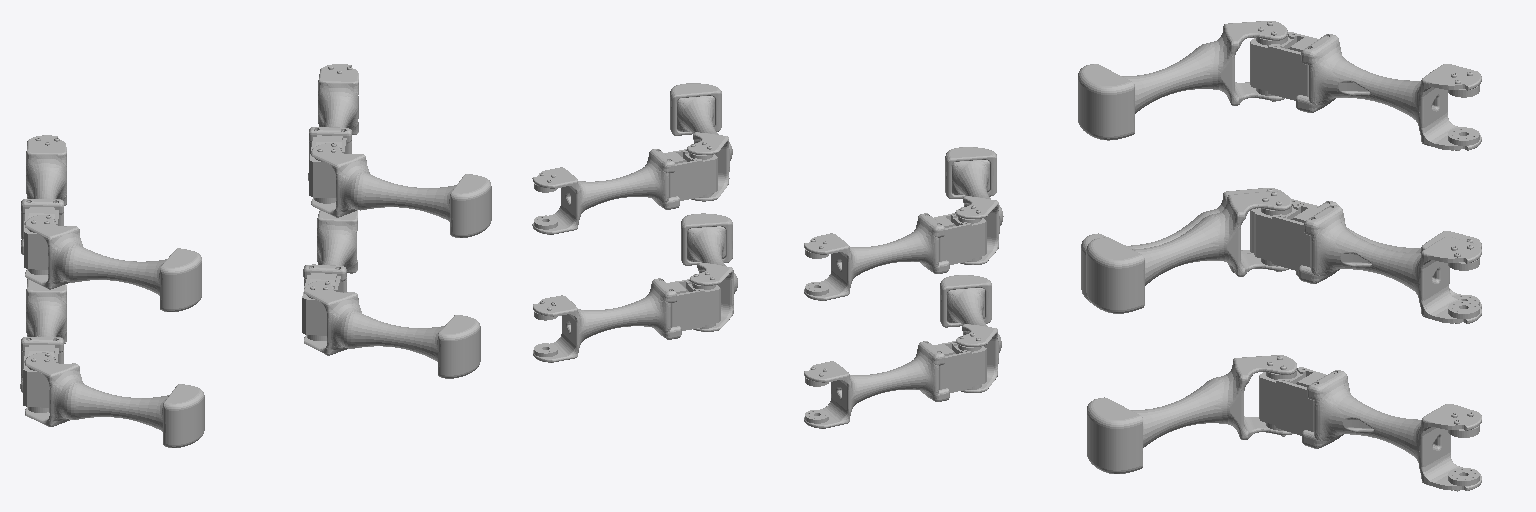
URDF robot description (Bobo_shoes):
<?xml version="1.0" encoding="utf-8"?>
<!-- This URDF was automatically created by SolidWorks to URDF Exporter! Originally created by [author] ([email redacted]) 
     Commit Version: 1.6.0-4-g7f85cfe  Build Version: 1.6.7995.38578
     For more information, please see http://wiki.ros.org/sw_urdf_exporter -->
<robot
  name="Bobo_shoes">
  <link
    name="base_link">
    <inertial>
      <origin
        xyz="0.00010649 0.038205 -0.00019677"
        rpy="0 0 0" />
      <mass
        value="1.4208" />
      <inertia
        ixx="0.0017927"
        ixy="2.4302E-06"
        ixz="-2.1942E-07"
        iyy="0.0036662"
        iyz="3.6126E-07"
        izz="0.0020571" />
    </inertial>
    <visual>
      <origin
        xyz="0 0 0"
        rpy="0 0 0" />
      <geometry>
        <mesh
          filename="package://Bobo_shoes/meshes/base_link.STL" />
      </geometry>
      <material
        name="">
        <color
          rgba="0.75294 0.75294 0.75294 1" />
      </material>
    </visual>
    <collision>
      <origin
        xyz="0 0 0"
        rpy="0 0 0" />
      <geometry>
        <mesh
          filename="package://Bobo_shoes/meshes/base_link.STL" />
      </geometry>
    </collision>
  </link>
  <link
    name="link_1">
    <inertial>
      <origin
        xyz="0.023574 0.02515 0.080557"
        rpy="0 0 0" />
      <mass
        value="0.083092" />
      <inertia
        ixx="6.4238E-05"
        ixy="-2.1796E-07"
        ixz="-6.6422E-07"
        iyy="6.3326E-05"
        iyz="-1.6043E-05"
        izz="1.75E-05" />
    </inertial>
    <visual>
      <origin
        xyz="0 0 0"
        rpy="0 0 0" />
      <geometry>
        <mesh
          filename="package://Bobo_shoes/meshes/link_1.STL" />
      </geometry>
      <material
        name="">
        <color
          rgba="0.75294 0.75294 0.75294 1" />
      </material>
    </visual>
    <collision>
      <origin
        xyz="0 0 0"
        rpy="0 0 0" />
      <geometry>
        <mesh
          filename="package://Bobo_shoes/meshes/link_1.STL" />
      </geometry>
    </collision>
  </link>
  <joint
    name="joint_1"
    type="revolute">
    <origin
      xyz="0.1049 0 -0.032125"
      rpy="2.5078 1.5708 0" />
    <parent
      link="base_link" />
    <child
      link="link_1" />
    <axis
      xyz="1 0 0" />
    <limit
      lower="-0.78"
      upper="0.78"
      effort="1.667"
      velocity="5.5" />
  </joint>
  <link
    name="link_2">
    <inertial>
      <origin
        xyz="0.0241545629458776 -0.064141958662364 0.0461530494688376"
        rpy="0 0 0" />
      <mass
        value="0.0794251949247651" />
      <inertia
        ixx="0.000105991529822171"
        ixy="5.44628841125708E-08"
        ixz="-5.47187122987762E-08"
        iyy="6.07427935489942E-05"
        iyz="4.66916520913843E-05"
        izz="6.0437364979308E-05" />
    </inertial>
    <visual>
      <origin
        xyz="0 0 0"
        rpy="0 0 0" />
      <geometry>
        <mesh
          filename="package://Bobo_shoes/meshes/link_2.STL" />
      </geometry>
      <material
        name="">
        <color
          rgba="0.752941176470588 0.752941176470588 0.752941176470588 1" />
      </material>
    </visual>
    <collision>
      <origin
        xyz="0 0 0"
        rpy="0 0 0" />
      <geometry>
        <mesh
          filename="package://Bobo_shoes/meshes/link_2.STL" />
      </geometry>
      <contact_coefficients mu="0" kp="1.0" kd="1.0" />
    </collision>
  </link>
  <joint
    name="joint_2"
    type="revolute">
    <origin
      xyz="0 0.041216 0.1317"
      rpy="-2.3481 0 0" />
    <parent
      link="link_1" />
    <child
      link="link_2" />
    <axis
      xyz="-1 0 0" />
    <limit
      lower="-0.78"
      upper="0.78"
      effort="1.667"
      velocity="5.5" />
  </joint>
  <link
    name="link_3">
    <inertial>
      <origin
        xyz="-0.023276 0.031256 0.07839"
        rpy="0 0 0" />
      <mass
        value="0.083093" />
      <inertia
        ixx="6.4239E-05"
        ixy="-2.6829E-07"
        ixz="-6.456E-07"
        iyy="6.0603E-05"
        iyz="-1.9359E-05"
        izz="2.0224E-05" />
    </inertial>
    <visual>
      <origin
        xyz="0 0 0"
        rpy="0 0 0" />
      <geometry>
        <mesh
          filename="package://Bobo_shoes/meshes/link_3.STL" />
      </geometry>
      <material
        name="">
        <color
          rgba="0.75294 0.75294 0.75294 1" />
      </material>
    </visual>
    <collision>
      <origin
        xyz="0 0 0"
        rpy="0 0 0" />
      <geometry>
        <mesh
          filename="package://Bobo_shoes/meshes/link_3.STL" />
      </geometry>
    </collision>
  </link>
  <joint
    name="joint_3"
    type="revolute">
    <origin
      xyz="0.1049 0 0.033525"
      rpy="2.5462 1.5708 0" />
    <parent
      link="base_link" />
    <child
      link="link_3" />
    <axis
      xyz="1 0 0" />
    <limit
      lower="-0.78"
      upper="0.78"
      effort="1.667"
      velocity="5.5" />
  </joint>
  <link
    name="link_4">
    <inertial>
      <origin
        xyz="-0.0226954374846085 -0.0586522682265568 0.0529547909931943"
        rpy="0 0 0" />
      <mass
        value="0.0794253330989273" />
      <inertia
        ixx="0.000105991857636258"
        ixy="4.80859268104431E-08"
        ixz="-6.03993729558542E-08"
        iyy="7.09897909834876E-05"
        iyz="4.55191839954083E-05"
        izz="5.01907218094876E-05" />
    </inertial>
    <visual>
      <origin
        xyz="0 0 0"
        rpy="0 0 0" />
      <geometry>
        <mesh
          filename="package://Bobo_shoes/meshes/link_4.STL" />
      </geometry>
      <material
        name="">
        <color
          rgba="0.752941176470588 0.752941176470588 0.752941176470588 1" />
      </material>
    </visual>
    <collision>
      <origin
        xyz="0 0 0"
        rpy="0 0 0" />
      <geometry>
        <mesh
          filename="package://Bobo_shoes/meshes/link_4.STL" />
      </geometry>
      <contact_coefficients mu="0" kp="1.0" kd="1.0" />
    </collision>
  </link>
  <joint
    name="joint_4"
    type="revolute">
    <origin
      xyz="0 0.051198 0.12815"
      rpy="-2.3311 0 0" />
    <parent
      link="link_3" />
    <child
      link="link_4" />
    <axis
      xyz="-1 0 0" />
    <limit
      lower="-0.78"
      upper="0.78"
      effort="1.667"
      velocity="5.5" />
  </joint>
  <link
    name="link_5">
    <inertial>
      <origin
        xyz="0.023574 0.036666 0.07601"
        rpy="0 0 0" />
      <mass
        value="0.083093" />
      <inertia
        ixx="6.4239E-05"
        ixy="-3.1282E-07"
        ixz="-6.2524E-07"
        iyy="5.7702E-05"
        iyz="-2.1988E-05"
        izz="2.3125E-05" />
    </inertial>
    <visual>
      <origin
        xyz="0 0 0"
        rpy="0 0 0" />
      <geometry>
        <mesh
          filename="package://Bobo_shoes/meshes/link_5.STL" />
      </geometry>
      <material
        name="">
        <color
          rgba="0.75294 0.75294 0.75294 1" />
      </material>
    </visual>
    <collision>
      <origin
        xyz="0 0 0"
        rpy="0 0 0" />
      <geometry>
        <mesh
          filename="package://Bobo_shoes/meshes/link_5.STL" />
      </geometry>
    </collision>
  </link>
  <joint
    name="joint_5"
    type="revolute">
    <origin
      xyz="-0.1451 0 -0.032125"
      rpy="2.5813 1.5708 0" />
    <parent
      link="base_link" />
    <child
      link="link_5" />
    <axis
      xyz="1 0 0" />
    <limit
      lower="-0.78"
      upper="0.78"
      effort="1.667"
      velocity="5.5" />
  </joint>
  <link
    name="link_6">
    <inertial>
      <origin
        xyz="0.024155 -0.059629 0.051853"
        rpy="0 0 0" />
      <mass
        value="0.079425" />
      <inertia
        ixx="0.00010599"
        ixy="4.9202E-08"
        ixz="-5.9493E-08"
        iyy="6.9287E-05"
        iyz="4.5875E-05"
        izz="5.1894E-05" />
    </inertial>
    <visual>
      <origin
        xyz="0 0 0"
        rpy="0 0 0" />
      <geometry>
        <mesh
          filename="package://Bobo_shoes/meshes/link_6.STL" />
      </geometry>
      <material
        name="">
        <color
          rgba="0.75294 0.75294 0.75294 1" />
      </material>
    </visual>
    <collision>
      <origin
        xyz="0 0 0"
        rpy="0 0 0" />
      <geometry>
        <mesh
          filename="package://Bobo_shoes/meshes/link_6.STL" />
      </geometry>
      <contact_coefficients mu="0" kp="1.0" kd="1.0" />
    </collision>
  </link>
  <joint
    name="joint_6"
    type="revolute">
    <origin
      xyz="0 0.060042 0.12425"
      rpy="-2.3755 0 0" />
    <parent
      link="link_5" />
    <child
      link="link_6" />
    <axis
      xyz="-1 0 0" />
    <limit
      lower="-0.78"
      upper="0.78"
      effort="1.667"
      velocity="5.5" />
  </joint>
  <link
    name="link_7">
    <inertial>
      <origin
        xyz="-0.023276 0.036917 0.075888"
        rpy="0 0 0" />
      <mass
        value="0.083093" />
      <inertia
        ixx="6.4239E-05"
        ixy="-3.1489E-07"
        ixz="-6.242E-07"
        iyy="5.7556E-05"
        iyz="-2.2102E-05"
        izz="2.3271E-05" />
    </inertial>
    <visual>
      <origin
        xyz="0 0 0"
        rpy="0 0 0" />
      <geometry>
        <mesh
          filename="package://Bobo_shoes/meshes/link_7.STL" />
      </geometry>
      <material
        name="">
        <color
          rgba="0.75294 0.75294 0.75294 1" />
      </material>
    </visual>
    <collision>
      <origin
        xyz="0 0 0"
        rpy="0 0 0" />
      <geometry>
        <mesh
          filename="package://Bobo_shoes/meshes/link_7.STL" />
      </geometry>
    </collision>
  </link>
  <joint
    name="joint_7"
    type="revolute">
    <origin
      xyz="-0.1451 0 0.033525"
      rpy="2.5829 1.5708 0" />
    <parent
      link="base_link" />
    <child
      link="link_7" />
    <axis
      xyz="1 0 0" />
    <limit
      lower="-0.78"
      upper="0.78"
      effort="1.667"
      velocity="5.5" />
  </joint>
  <link
    name="link_8">
    <inertial>
      <origin
        xyz="-0.022695 -0.06334 0.047247"
        rpy="0 0 0" />
      <mass
        value="0.079425" />
      <inertia
        ixx="0.00010599"
        ixy="5.3515E-08"
        ixz="-5.5645E-08"
        iyy="6.2346E-05"
        iyz="4.6659E-05"
        izz="5.8835E-05" />
    </inertial>
    <visual>
      <origin
        xyz="0 0 0"
        rpy="0 0 0" />
      <geometry>
        <mesh
          filename="package://Bobo_shoes/meshes/link_8.STL" />
      </geometry>
      <material
        name="">
        <color
          rgba="0.75294 0.75294 0.75294 1" />
      </material>
    </visual>
    <collision>
      <origin
        xyz="0 0 0"
        rpy="0 0 0" />
      <geometry>
        <mesh
          filename="package://Bobo_shoes/meshes/link_8.STL" />
      </geometry>
      <contact_coefficients mu="0" kp="1.0" kd="1.0" />
    </collision>
  </link>
  <joint
    name="joint_8"
    type="revolute">
    <origin
      xyz="0 0.060452 0.12405"
      rpy="-2.4146 0 0" />
    <parent
      link="link_7" />
    <child
      link="link_8" />
    <axis
      xyz="-1 0 0" />
    <limit
      lower="-0.78"
      upper="0.78"
      effort="1.667"
      velocity="5.5" />
  </joint>
</robot>

--- Render facts (derived) ---
The picture shows the robot from 3 angles, left to right: view 1: azimuth 30°, elevation 25°; view 2: azimuth 150°, elevation 25°; view 3: azimuth 270°, elevation 25°; orthographic projection.
Model Bobo_shoes with 9 links and 8 joints (8 revolute), rooted at base_link, posed every joint at zero.
Visible links, largest first — view 1: link_4, link_6, link_2, link_8, link_3, link_7, link_5, link_1; view 2: link_1, link_3, link_5, link_7, link_2, link_8, link_4, link_6; view 3: link_7, link_3, link_1, link_8, link_4, link_2, link_6, link_5.
Link boxes in pixels (left/top/right/bottom): link_4: left=311, top=143, right=491, bottom=237; link_6: left=25, top=352, right=204, bottom=447; link_2: left=304, top=281, right=480, bottom=378; link_8: left=25, top=215, right=201, bottom=311; link_3: left=308, top=64, right=358, bottom=197; link_7: left=21, top=135, right=66, bottom=269; link_5: left=20, top=279, right=66, bottom=407; link_1: left=302, top=210, right=357, bottom=335; link_1: left=533, top=278, right=720, bottom=362; link_3: left=532, top=149, right=717, bottom=234; link_5: left=804, top=341, right=986, bottom=428; link_7: left=804, top=213, right=986, bottom=300; link_2: left=681, top=213, right=737, bottom=331; link_8: left=945, top=147, right=1003, bottom=264; link_4: left=670, top=83, right=732, bottom=201; link_6: left=940, top=275, right=1001, bottom=392; link_7: left=1250, top=32, right=1481, bottom=150; link_3: left=1254, top=202, right=1481, bottom=323; link_1: left=1259, top=367, right=1481, bottom=491; link_8: left=1078, top=21, right=1287, bottom=140; link_4: left=1086, top=191, right=1291, bottom=313; link_2: left=1087, top=355, right=1296, bottom=473; link_6: left=1081, top=188, right=1284, bottom=302; link_5: left=1250, top=199, right=1481, bottom=308.
Bounding box of the posed robot: 0.3486 × 0.2468 × 0.1599 m (x, y, z).
8 mesh visuals loaded from 9 distinct referenced files (8 binary STL); not drawn: 1 (reference not matched to a file when rendering).